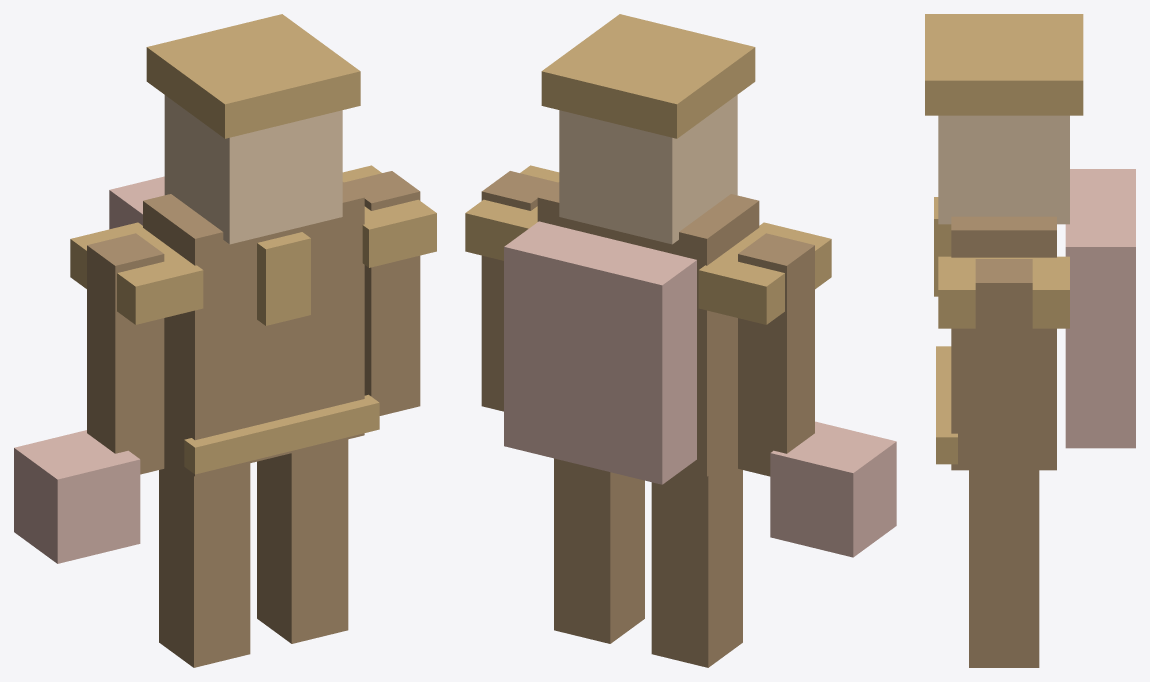
File: 14_noor_dubwater_responder_at_quarantine.glb
3 renders of one model, left to right at view 1: azimuth 30°, elevation 25°; view 2: azimuth 150°, elevation 25°; view 3: azimuth 270°, elevation 25°, orthographic.
Parts seen in each view (by area): view 1: Noor Dubwater, Responder at Quarantine; view 2: Noor Dubwater, Responder at Quarantine; view 3: Noor Dubwater, Responder at Quarantine.
Part boxes in pixels (<box>): Noor Dubwater, Responder at Quarantine: <box>14,14,436,667</box>; Noor Dubwater, Responder at Quarantine: <box>465,14,896,667</box>; Noor Dubwater, Responder at Quarantine: <box>925,14,1135,667</box>.
Size of the model in its own units: 0.9647 by 1.42 by 0.4654.
